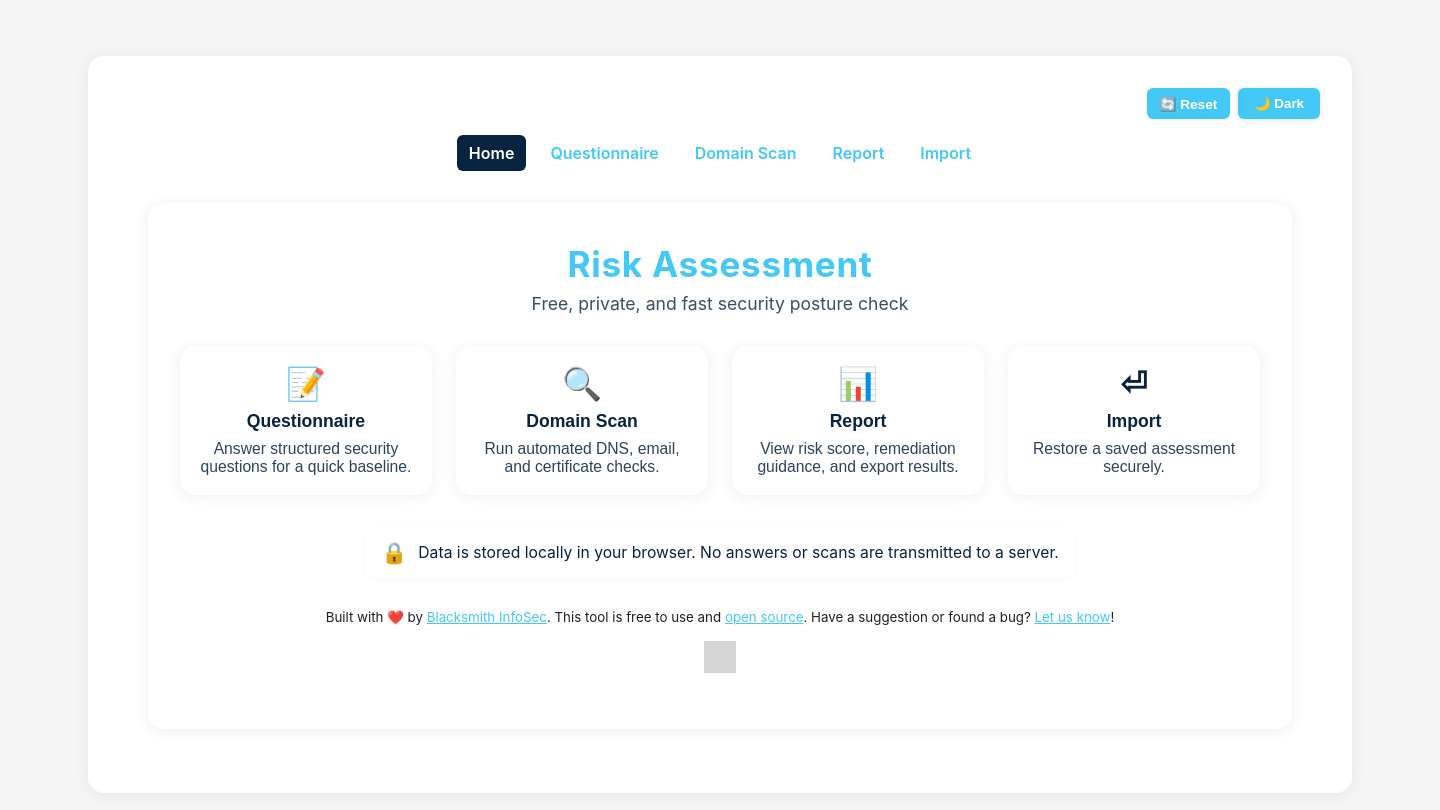
App - Reset Functionality › Reset Dialog Interaction › opens reset dialog when Reset button clicked
The width and height of the screenshot is (1440, 810).
Step 1. Click the button "🔄 Reset" → (1188, 104), box [1147, 88, 1230, 119]
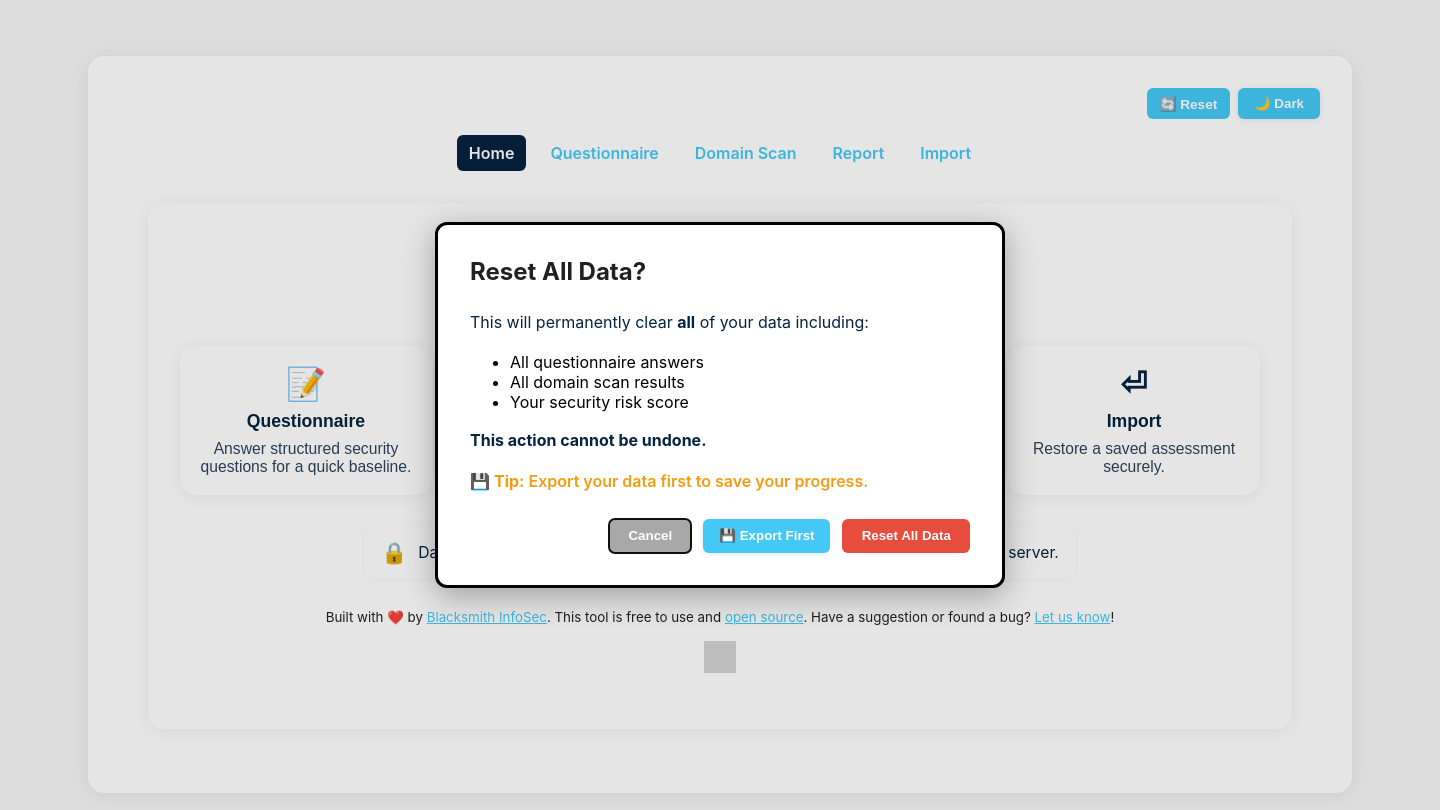
expect the heading "Reset All Data?" is shown: met, box [470, 257, 646, 286]
